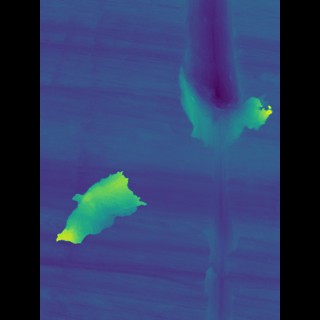Loch: (170, 0, 244, 320), (87, 163, 146, 249)
